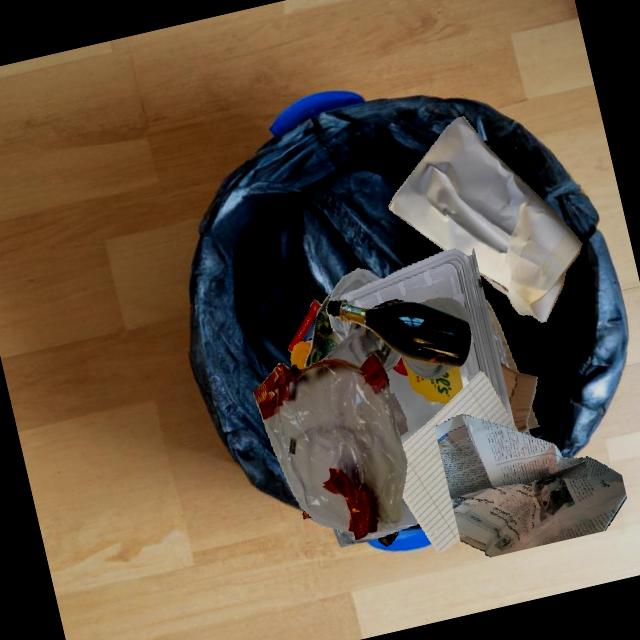cardboard: (304, 290, 342, 367), (501, 362, 537, 433), (287, 299, 321, 352)
glass: (326, 299, 470, 367), (320, 321, 401, 372), (486, 300, 518, 372), (419, 297, 472, 337), (400, 353, 454, 379), (389, 392, 407, 436), (527, 406, 539, 429)
paper: (388, 116, 582, 322), (434, 414, 627, 557), (401, 371, 518, 552)
plastic: (339, 247, 516, 444), (252, 354, 406, 540), (332, 495, 419, 547), (328, 268, 379, 301), (290, 340, 312, 370), (493, 331, 509, 368), (328, 314, 346, 340)
trash: (377, 531, 398, 545), (302, 509, 310, 518)
